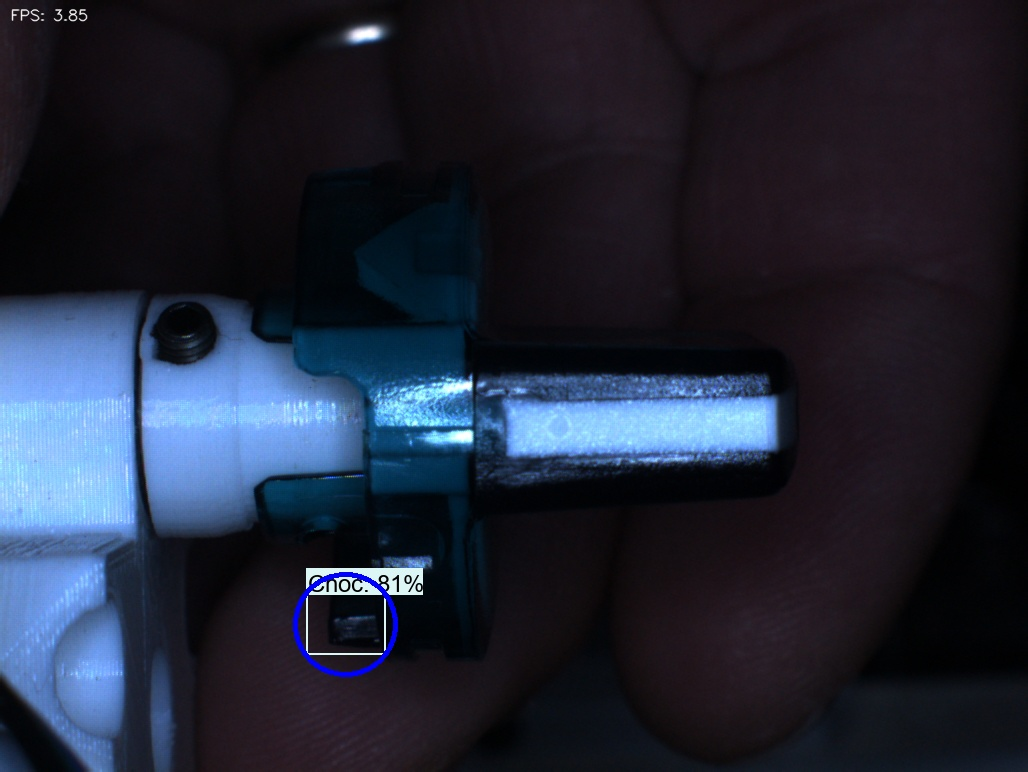DentOk: (334, 217, 393, 309)
